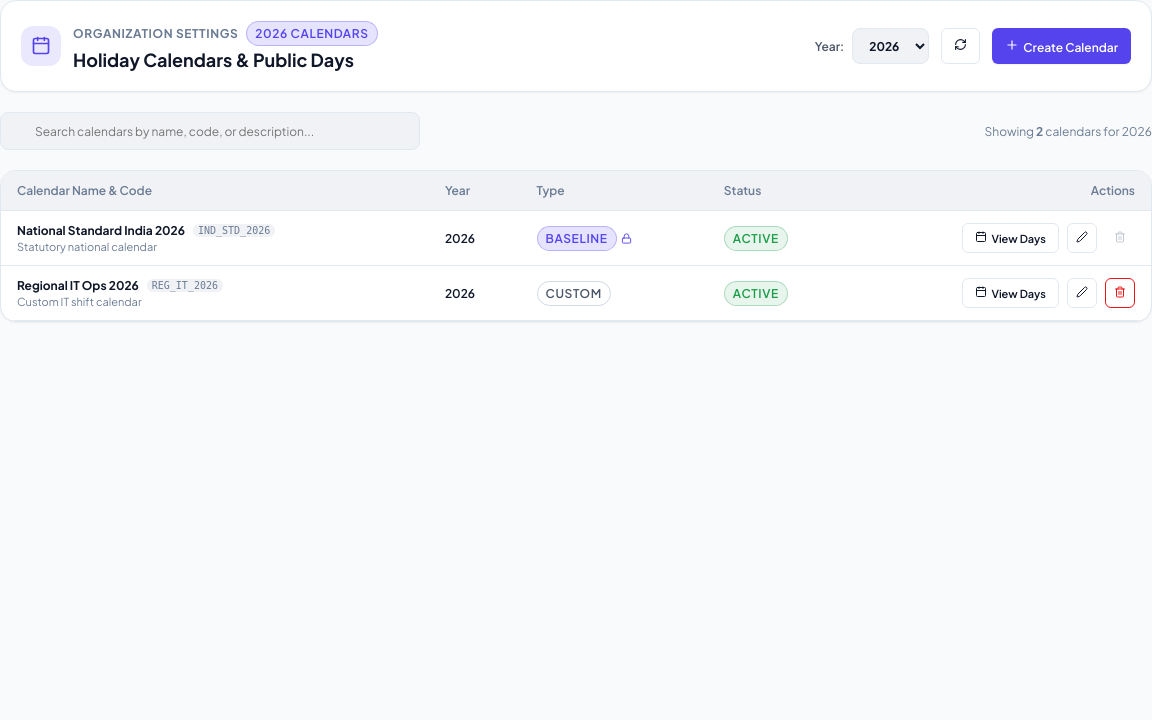
Test case: HolidayCalendarList Component › opens Create Calendar modal on click
The image size is (1152, 720).
Check: the text "Create Calendar" is shown, box top-left (1005, 38), bottom-right (1118, 54)
Step 1. Click the button "Create Calendar" → (1062, 46), box top-left (992, 28), bottom-right (1131, 64)
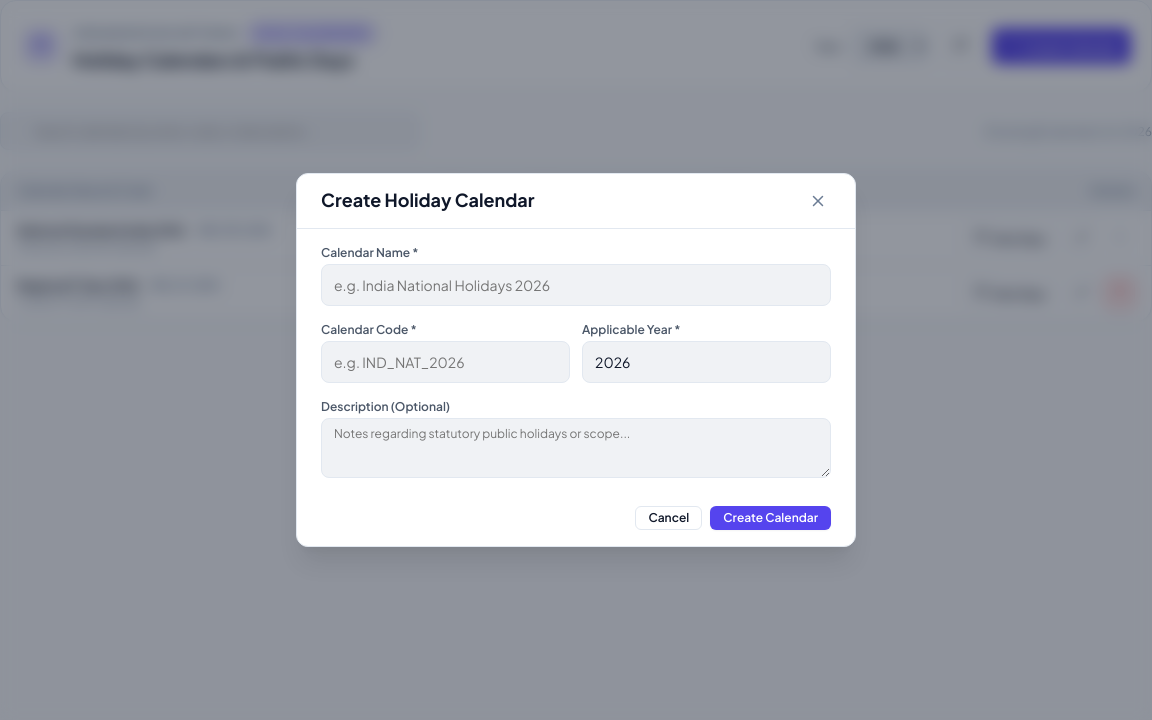
Check: the heading "Create Holiday Calendar" is shown, box top-left (321, 188), bottom-right (534, 211)
